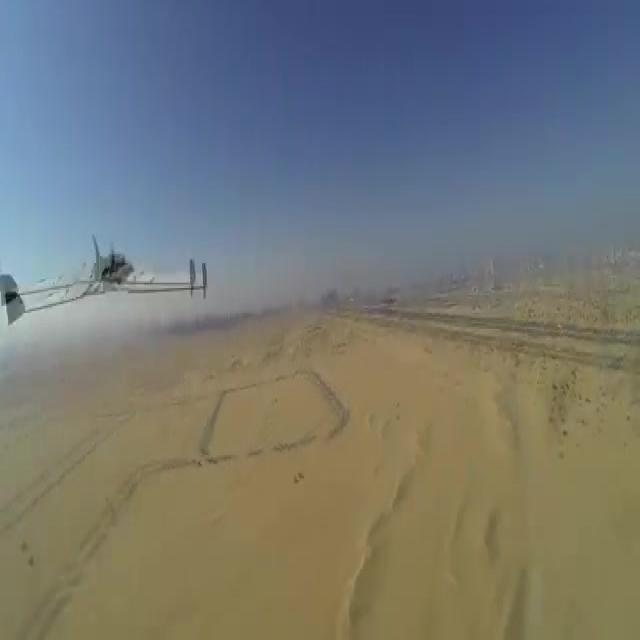iha: (0, 258, 148, 300)
